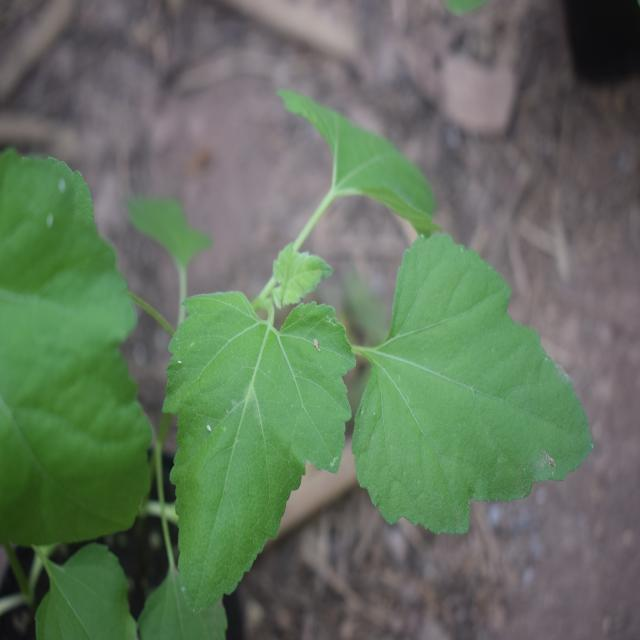cocklebur: (132, 101, 564, 555)
